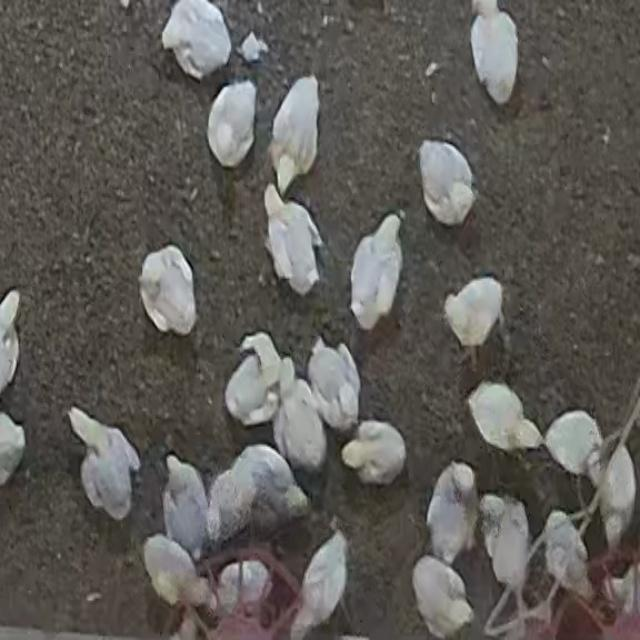chicken: (68, 408, 141, 520), (255, 184, 328, 294), (348, 212, 404, 332), (289, 530, 349, 639), (274, 361, 328, 476), (444, 276, 505, 374), (478, 491, 535, 595), (225, 332, 286, 429), (270, 76, 320, 194), (466, 384, 543, 460), (161, 0, 232, 82), (138, 536, 214, 612), (233, 446, 311, 520), (136, 241, 196, 337), (306, 334, 362, 432), (426, 462, 478, 566), (417, 139, 478, 227), (468, 0, 517, 108), (163, 454, 211, 560), (411, 555, 471, 639), (594, 438, 635, 555), (206, 79, 257, 172), (206, 457, 254, 548), (341, 421, 407, 487), (543, 410, 603, 480), (547, 511, 594, 597), (214, 558, 271, 622)
